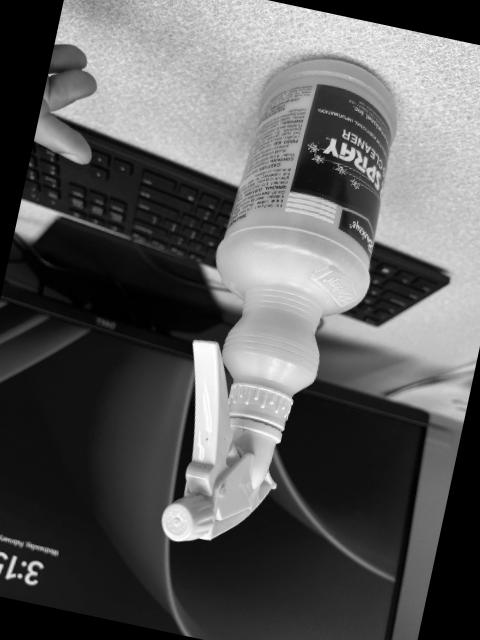StarSpray: (161, 53, 397, 539)
